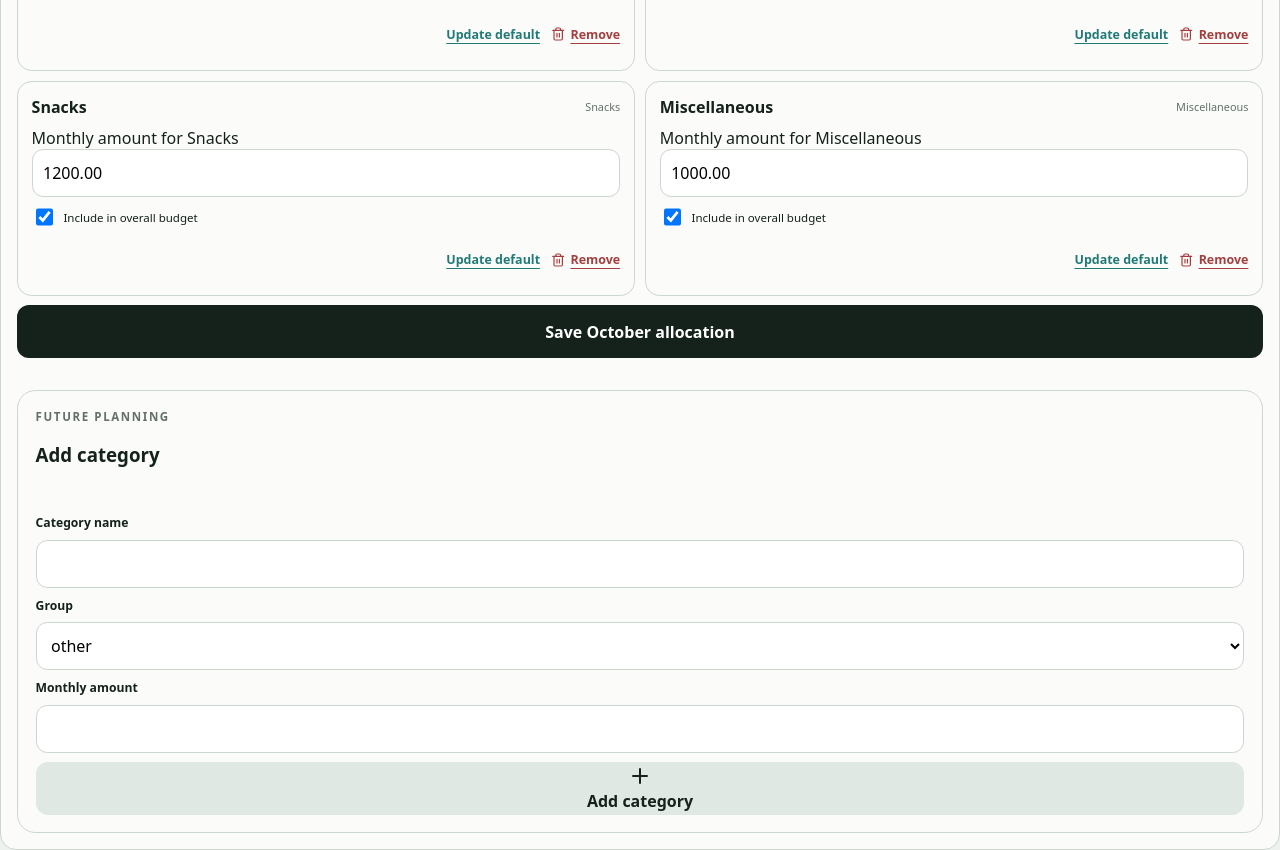
Test: BudgetConfiguration › adds a new category to the current month draft without mutating the saved snapshot
(page scrolled)
Type "Coffee" into the field labelled "Category name" at point(640, 564), box [36, 540, 1244, 588]
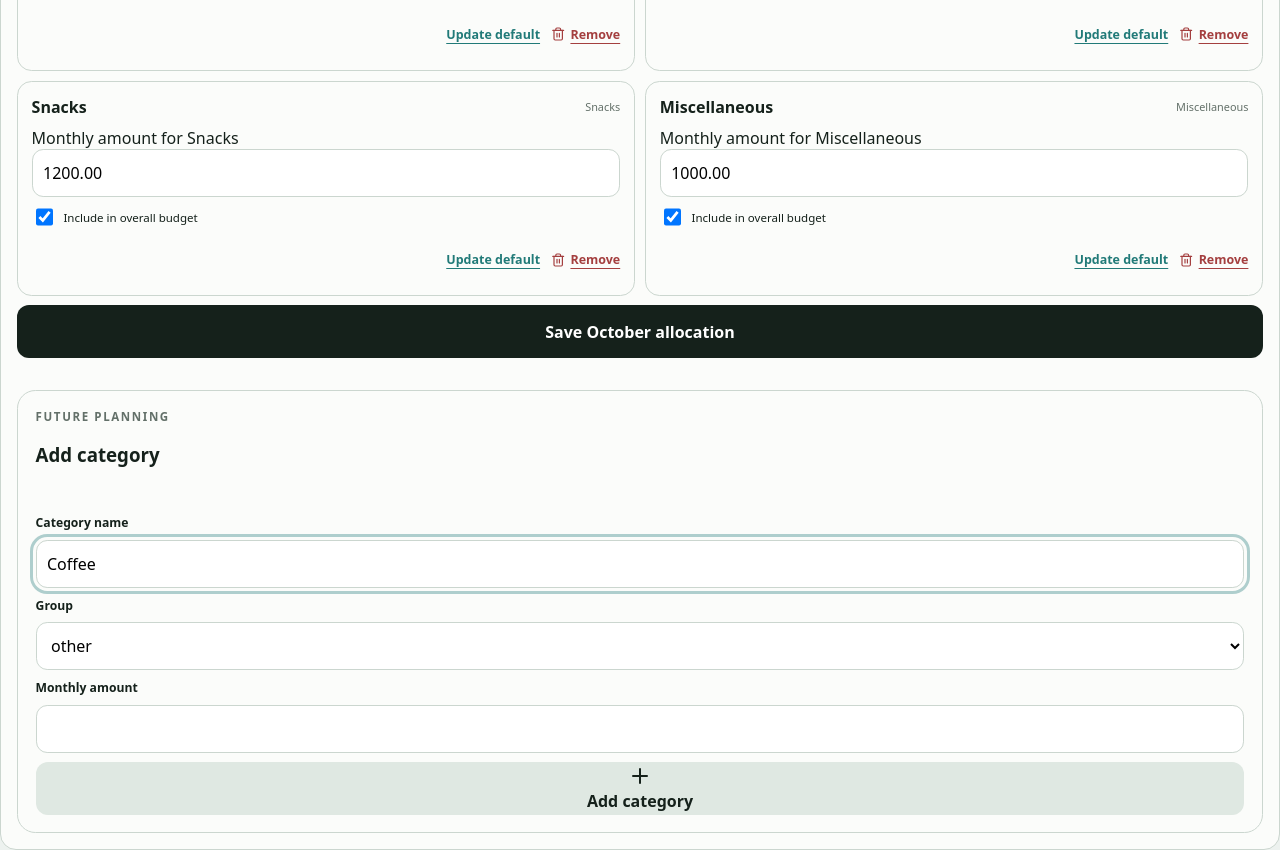
Select "other" in the dropdown labelled "Group" at point(640, 646), box [36, 622, 1244, 670]
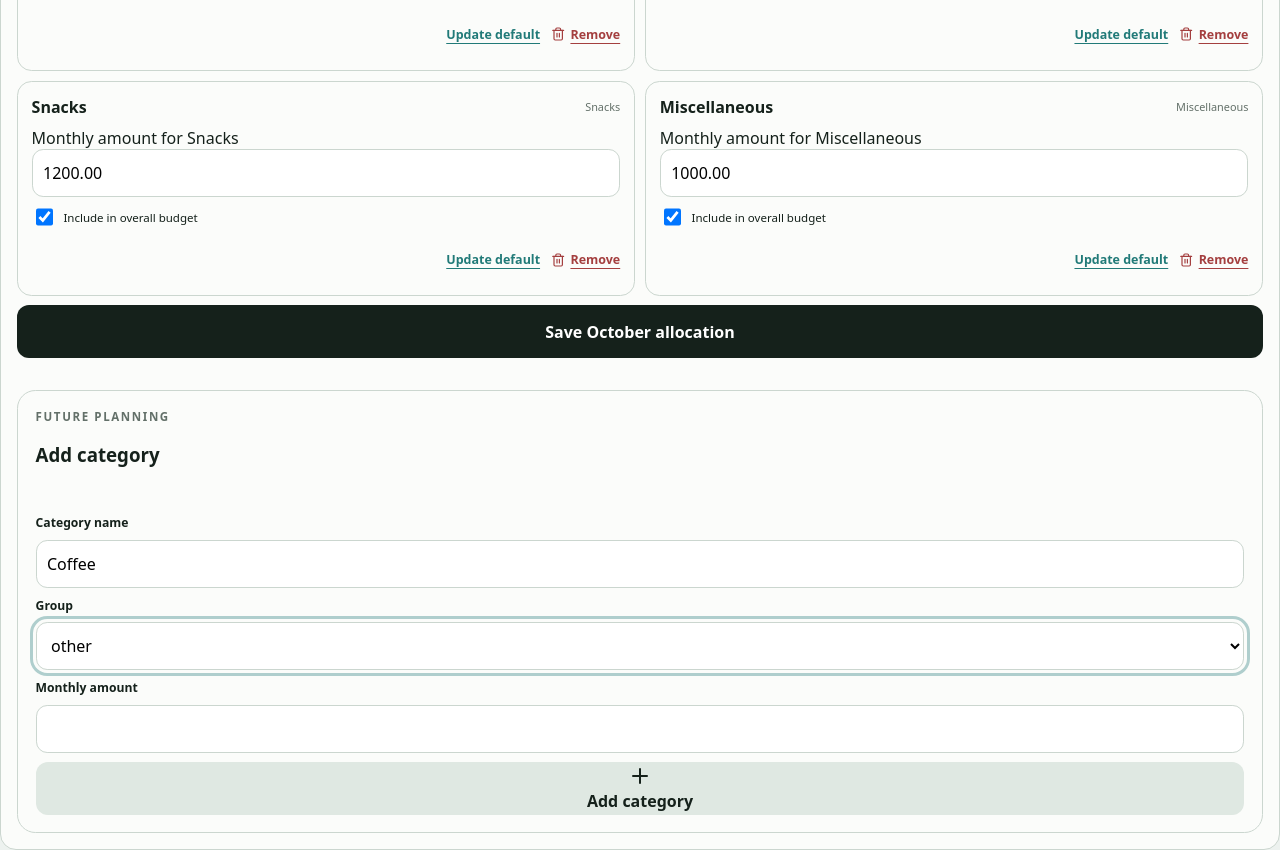
Type "600" into the field labelled "Monthly amount" at point(640, 729), box [36, 705, 1244, 753]
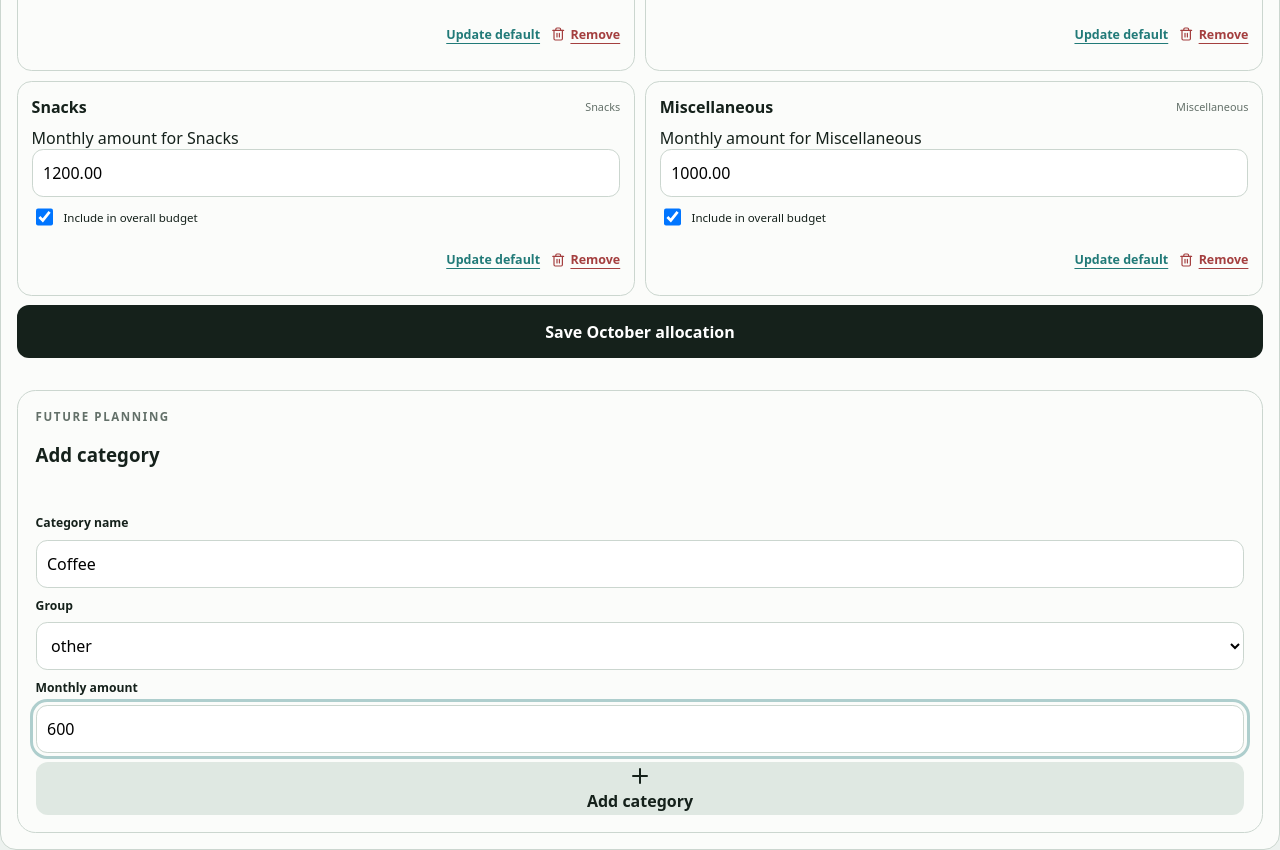
Click the button "Add category" at point(640, 788), box [36, 762, 1244, 814]
(page scrolled)
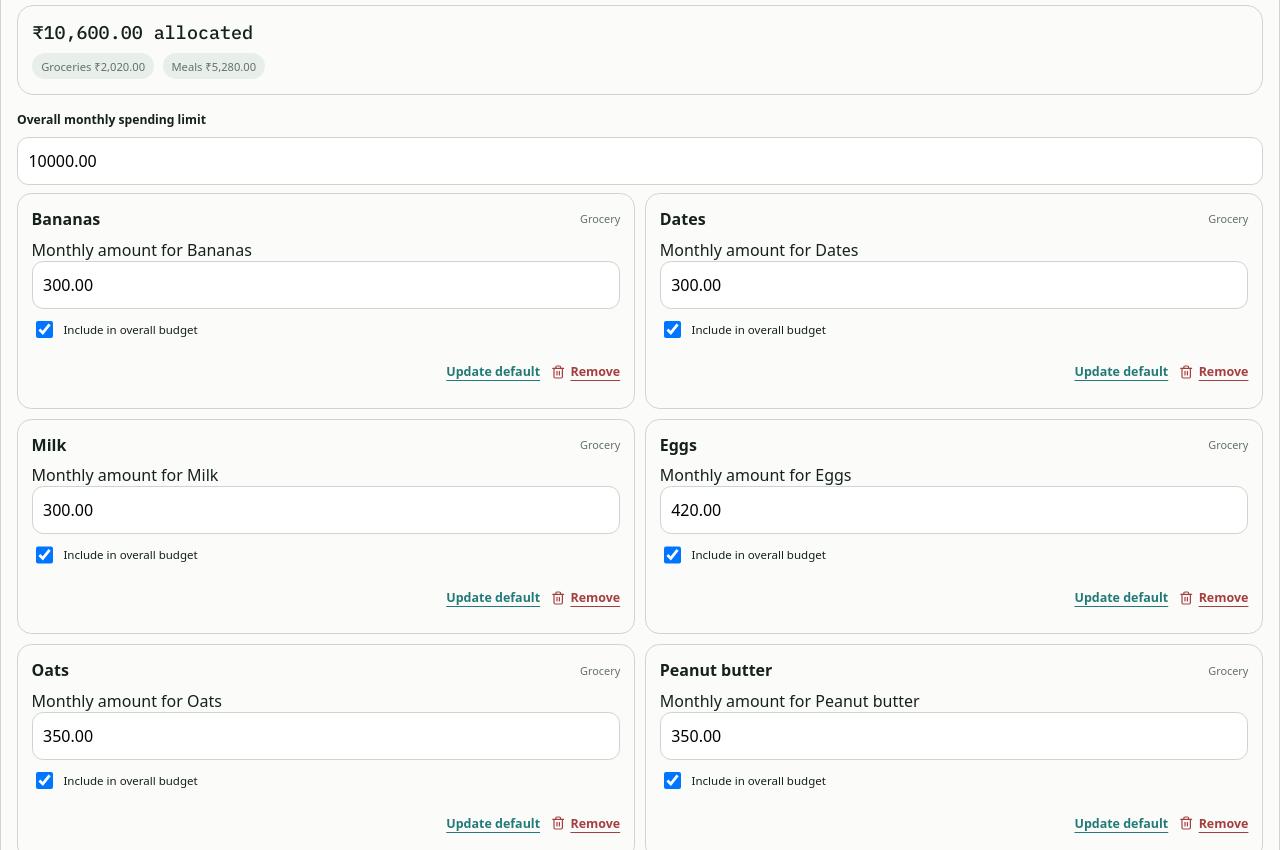
Now the text "₹10,600.00 allocated" is shown, box [32, 20, 253, 44]
